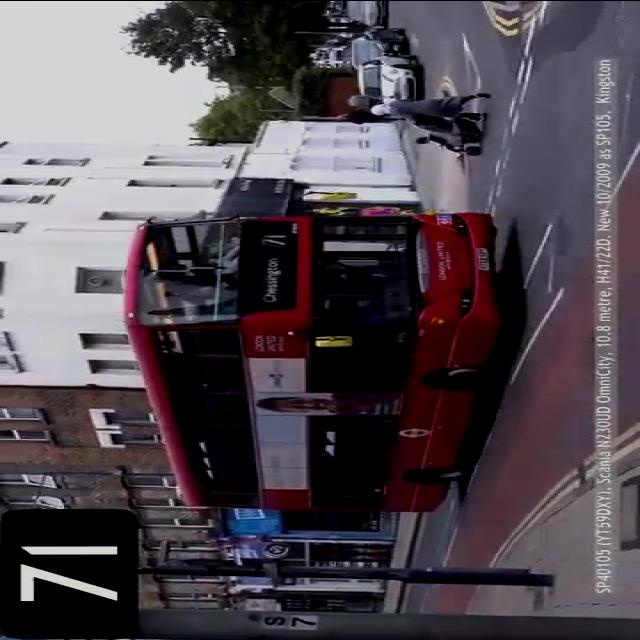bus: (119, 208, 512, 518)
